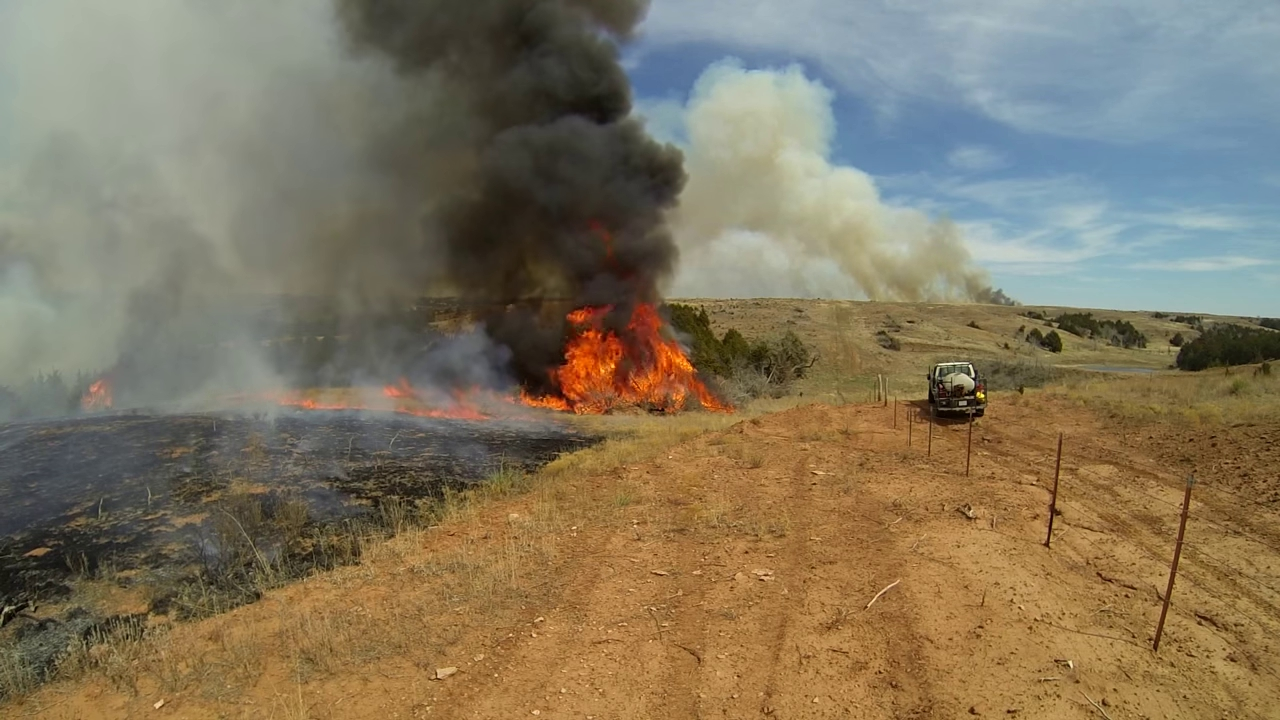forest_fire: (499, 303, 731, 414), (382, 378, 487, 416), (268, 391, 370, 409)
